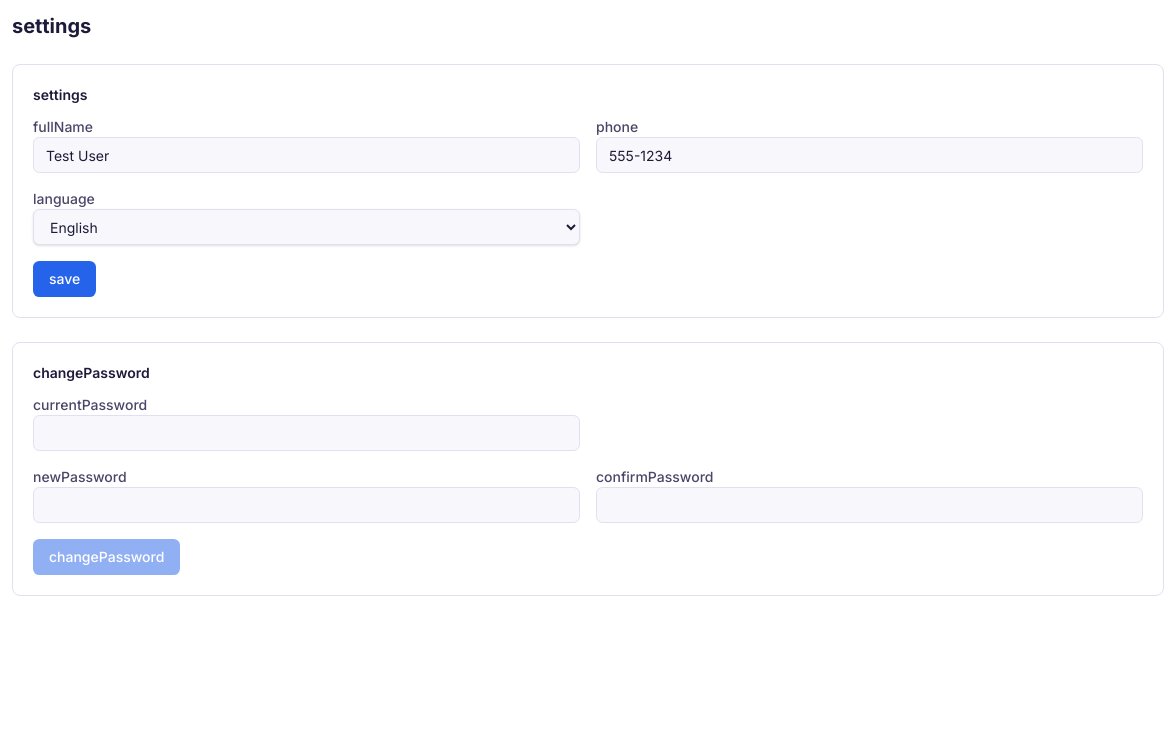
Scenario: SettingsPage › disables save button when name is empty
Clear the field below "fullName" at (306, 155), box [33,137,580,173]
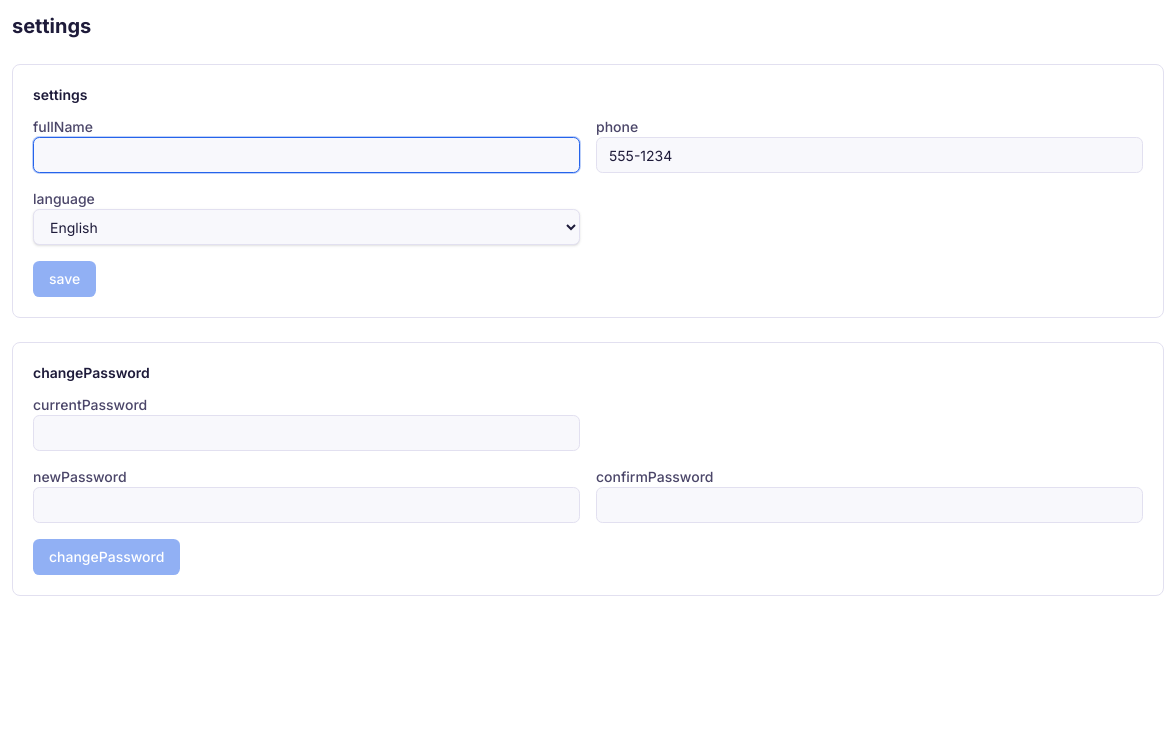
Now the button "save" is disabled, box [33,261,96,297]
